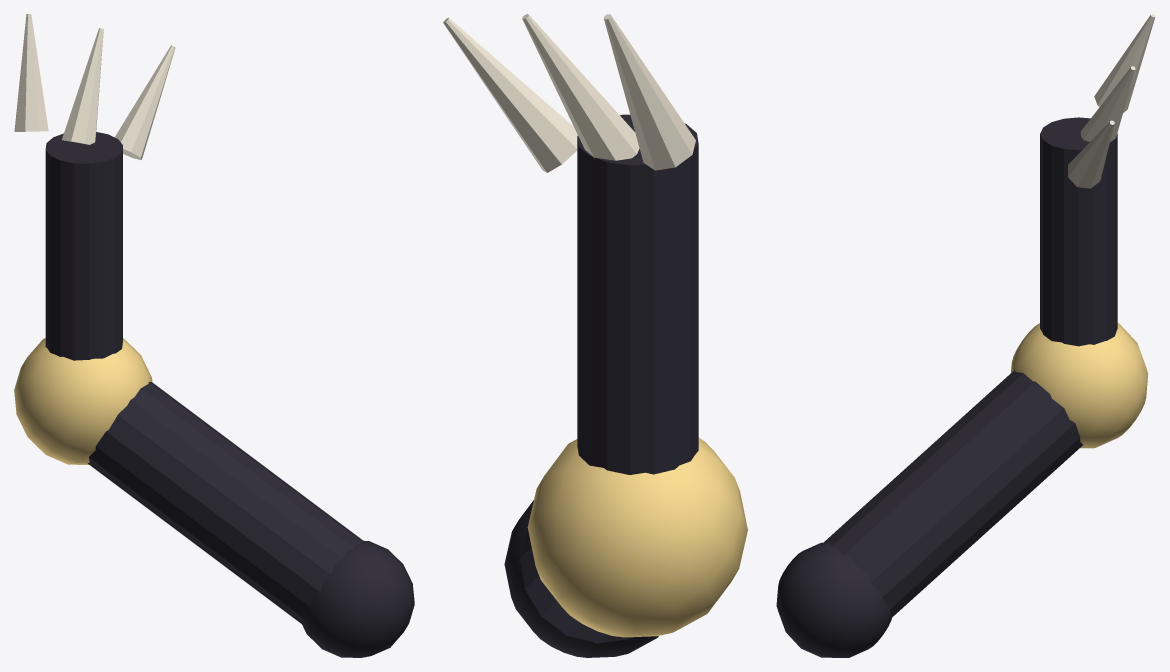
Rendered from SM_Keeper_Wepwawet_Legm1m1.fbx.
The picture shows the model from 3 angles, left to right: view 1: azimuth 30°, elevation 25°; view 2: azimuth 150°, elevation 25°; view 3: azimuth 270°, elevation 25°; orthographic projection. The views are drawn at different scales.
Parts seen in each view (by area): view 1: SM_Keeper_Wepwawet_Legm1m1; view 2: SM_Keeper_Wepwawet_Legm1m1; view 3: SM_Keeper_Wepwawet_Legm1m1.
Boxes of the visible parts, bbox=[...] form: SM_Keeper_Wepwawet_Legm1m1: bbox=[14, 14, 414, 657]; SM_Keeper_Wepwawet_Legm1m1: bbox=[443, 14, 747, 657]; SM_Keeper_Wepwawet_Legm1m1: bbox=[776, 14, 1155, 657].
Bounding box in the file's own units: 1.15 × 2.38 × 1.47.
